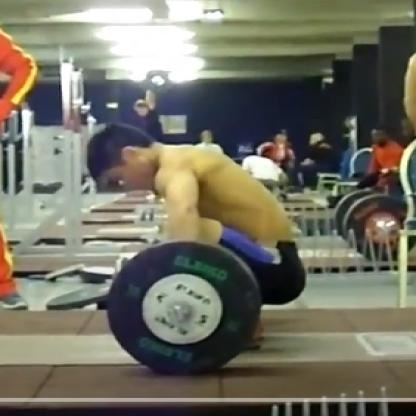Barbell: (104, 234, 268, 379)
